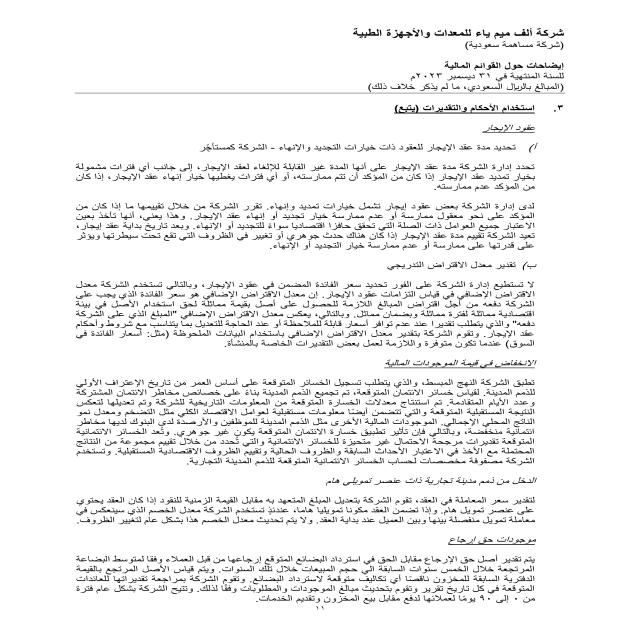notes: (434, 60, 570, 70)
text: (31, 101, 580, 618)
